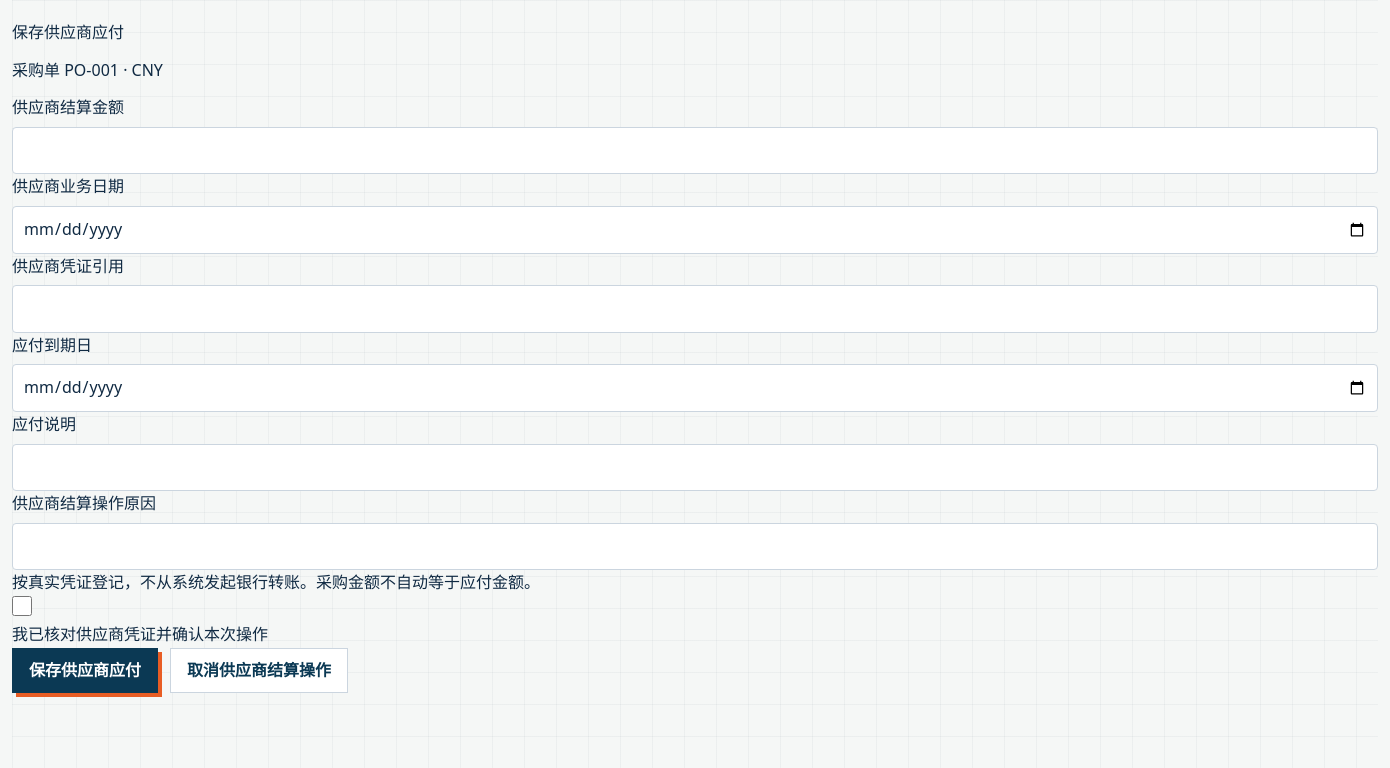
it: requires payable evidence, dates, positive amount and explicit confirmation
Click the button "保存供应商应付".
click(85, 670)  # box x1=12 y1=648 x2=158 y2=693
(page scrolled)
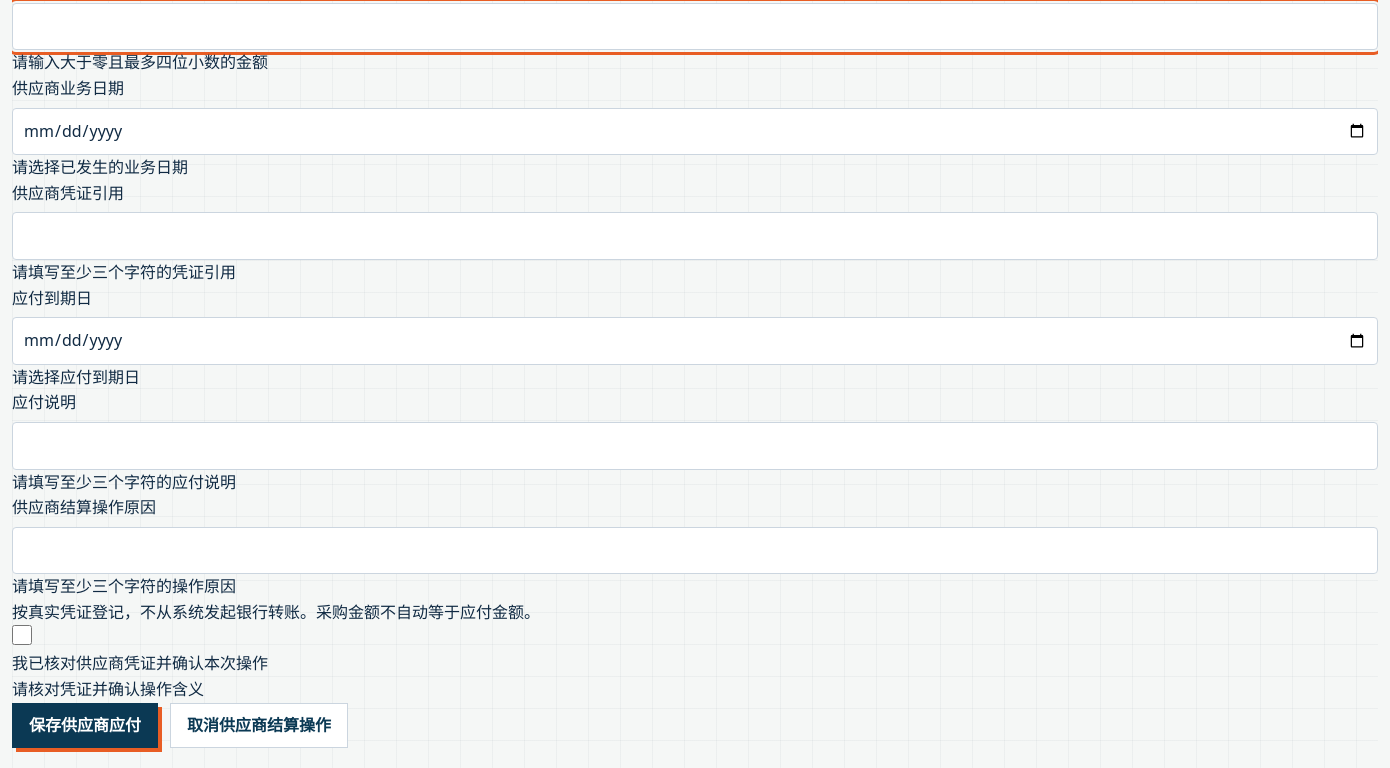
Expected: the text "请选择应付到期日" is shown, x1=12 y1=366 x2=140 y2=388
Expected: the text "请填写至少三个字符的凭证引用" is shown, x1=12 y1=261 x2=236 y2=283
Expected: the text "请输入大于零且最多四位小数的金额" is shown, x1=12 y1=51 x2=268 y2=73
